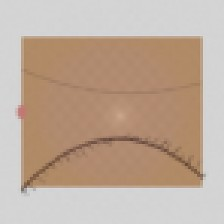corneal_ulcer: (101, 102, 145, 137)
